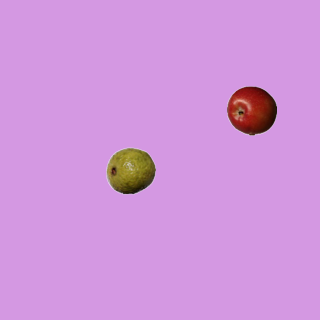Apple Braeburn: (226, 85, 276, 135)
Guava: (105, 145, 155, 195)
